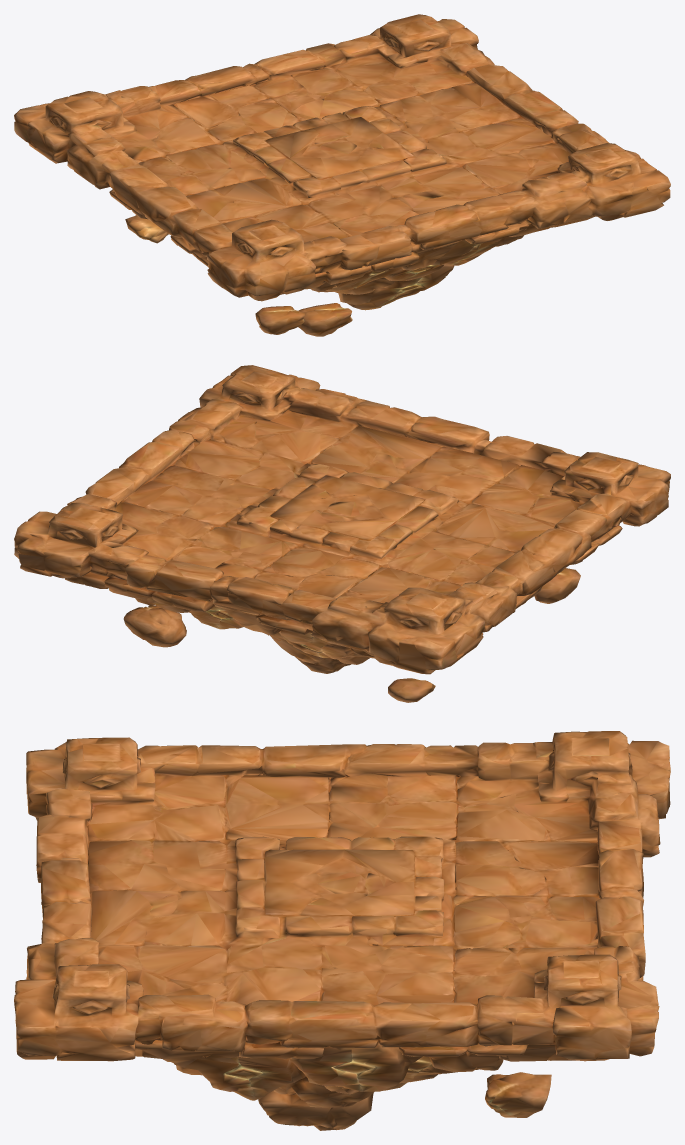
File: R1_Island_Arena.fbx
The picture shows the model from 3 angles, top to bottom: view 1: azimuth 30°, elevation 25°; view 2: azimuth 150°, elevation 25°; view 3: azimuth 270°, elevation 25°; orthographic projection. The views are drawn at different scales.
Visible parts, largest first — view 1: R1_Island_Arena; view 2: R1_Island_Arena; view 3: R1_Island_Arena.
Part boxes in pixels (x1,y1,x2,y2): R1_Island_Arena: (14, 14, 670, 336); R1_Island_Arena: (14, 365, 670, 702); R1_Island_Arena: (14, 731, 670, 1130).
Bounding box in the file's own units: 1350 × 550 × 1300.
1 material, 1 textured.
